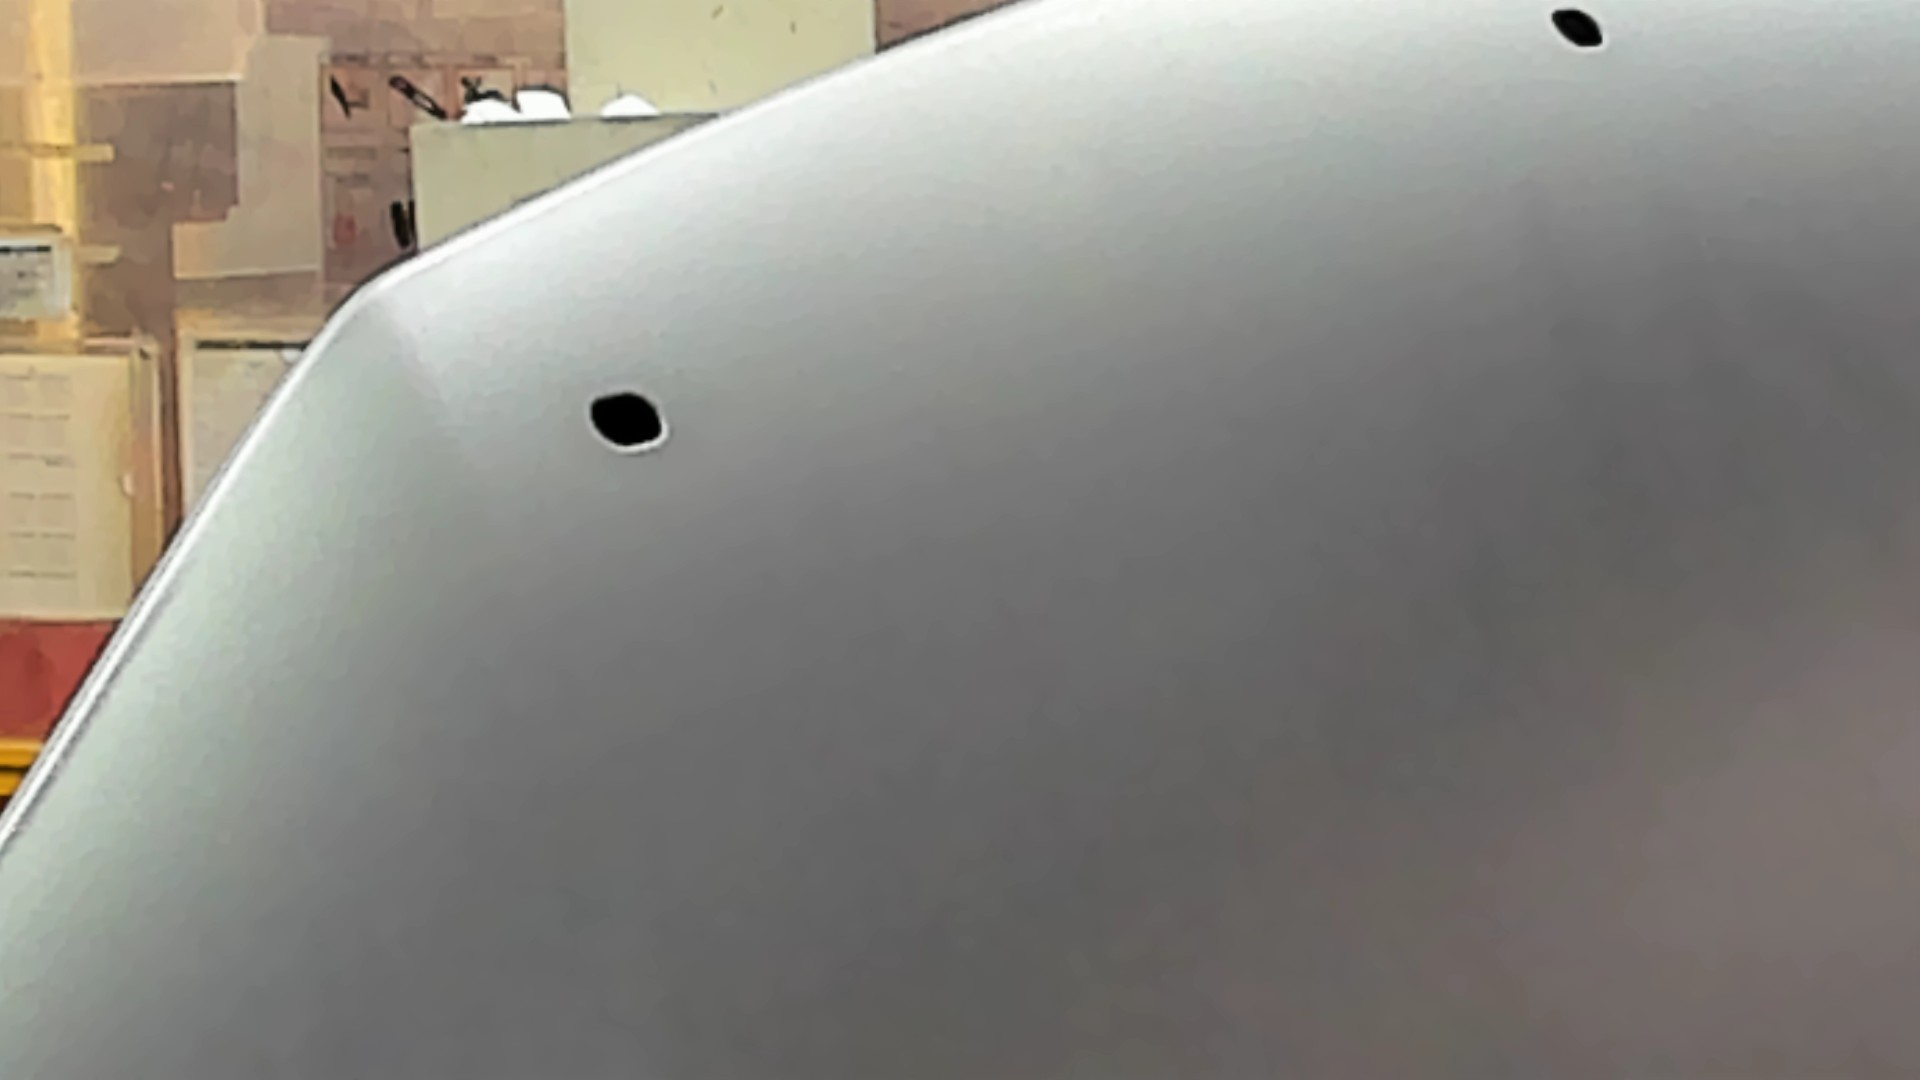amorfo: (584, 386, 674, 456), (1545, 1, 1609, 55)
